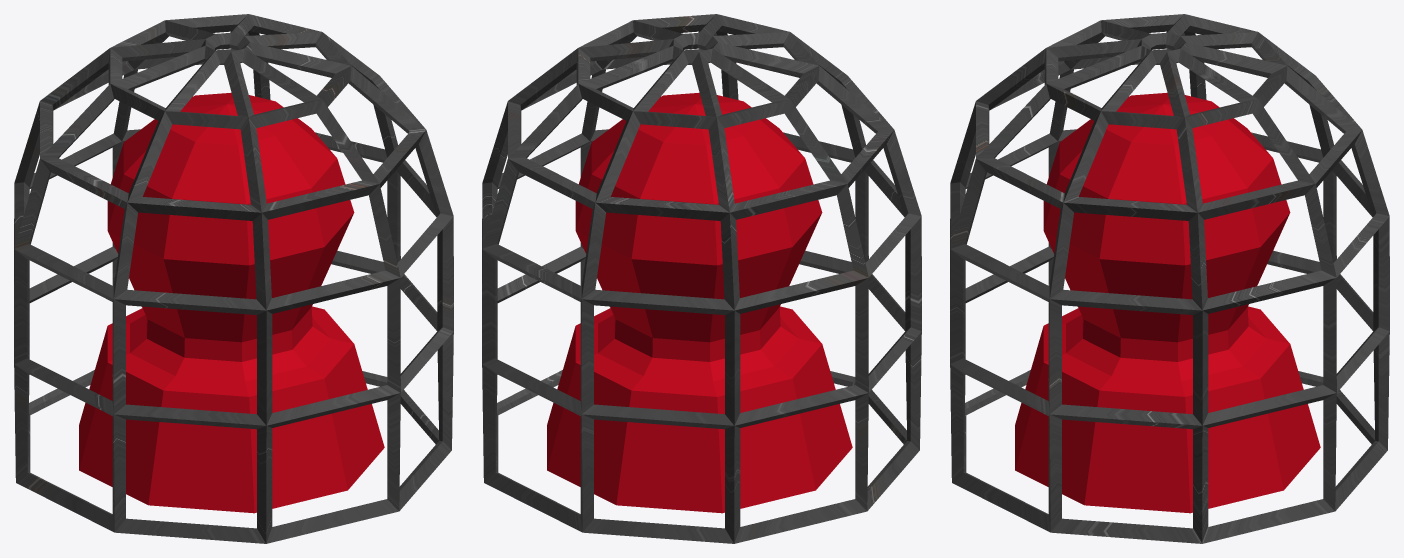
The model's file is Alarma.fbx.
3 renders of one model, left to right at view 1: azimuth 30°, elevation 25°; view 2: azimuth 150°, elevation 25°; view 3: azimuth 270°, elevation 25°, orthographic.
Parts seen in each view (by area): view 1: Cylinder.006; view 2: Cylinder.006; view 3: Cylinder.006.
Part boxes in pixels (x1,y1,x2,y2): Cylinder.006: [14, 14, 453, 543]; Cylinder.006: [482, 14, 921, 543]; Cylinder.006: [950, 14, 1389, 543].
Bounding box in the file's own units: 42.77 × 43.13 × 42.12.
2 materials, 1 textured.
